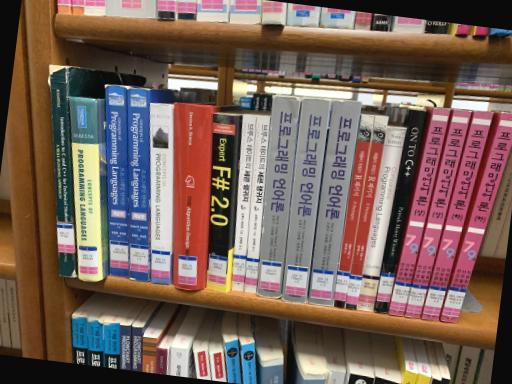book-spine: (422, 110, 495, 321), (441, 112, 512, 323), (406, 108, 472, 319), (388, 106, 451, 317), (308, 99, 362, 306), (375, 109, 426, 313), (283, 98, 332, 303), (256, 94, 301, 298), (357, 128, 407, 311), (345, 115, 388, 310), (172, 102, 213, 291), (334, 114, 374, 307), (69, 96, 102, 281), (207, 113, 238, 293), (51, 67, 77, 277), (245, 115, 270, 294), (232, 114, 257, 291), (106, 85, 129, 276), (149, 103, 173, 285), (127, 88, 149, 280)
